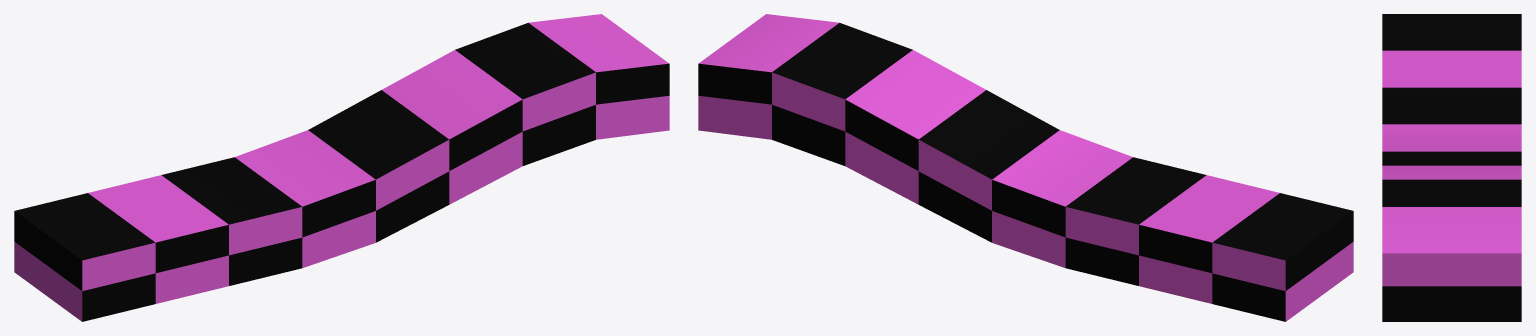
Rendered from TestStageProvisional.fbx.
3 views of the same model, side by side, from view 1: azimuth 30°, elevation 25°; view 2: azimuth 150°, elevation 25°; view 3: azimuth 270°, elevation 25° (orthographic). The views are drawn at different scales.
Parts seen in each view (by area): view 1: pCube1; view 2: pCube1; view 3: pCube1.
Boxes of the visible parts, left/top/right/bottom form: pCube1: left=14, top=14, right=669, bottom=321; pCube1: left=698, top=14, right=1353, bottom=321; pCube1: left=1382, top=14, right=1521, bottom=321.
Bounding box in the file's own units: 10 × 2.02 × 2.
